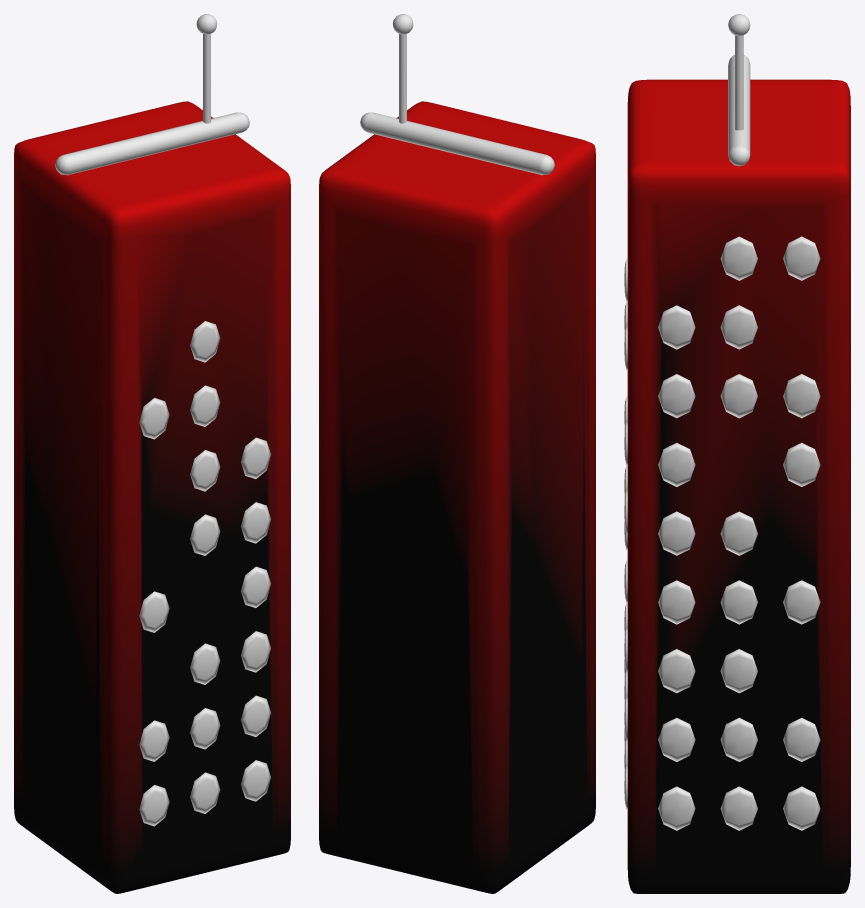
File: bg-city-a.glb
3 renders of one model, left to right at view 1: azimuth 30°, elevation 25°; view 2: azimuth 150°, elevation 25°; view 3: azimuth 270°, elevation 25°, orthographic. The views are drawn at different scales.
Visible parts, largest first — view 1: towerMesh, windows, roof; view 2: towerMesh, roof; view 3: towerMesh, windows, roof.
Part boxes in pixels (left/top/right/bottom): towerMesh: left=14, top=101, right=290, bottom=893; windows: left=139, top=321, right=271, bottom=826; roof: left=55, top=14, right=249, bottom=175; towerMesh: left=319, top=101, right=595, bottom=893; roof: left=360, top=14, right=554, bottom=175; towerMesh: left=627, top=79, right=850, bottom=893; windows: left=624, top=236, right=820, bottom=830; roof: left=728, top=14, right=750, bottom=166.
Bounding box in the file's own units: 5.3 × 21.35 × 5.08.
